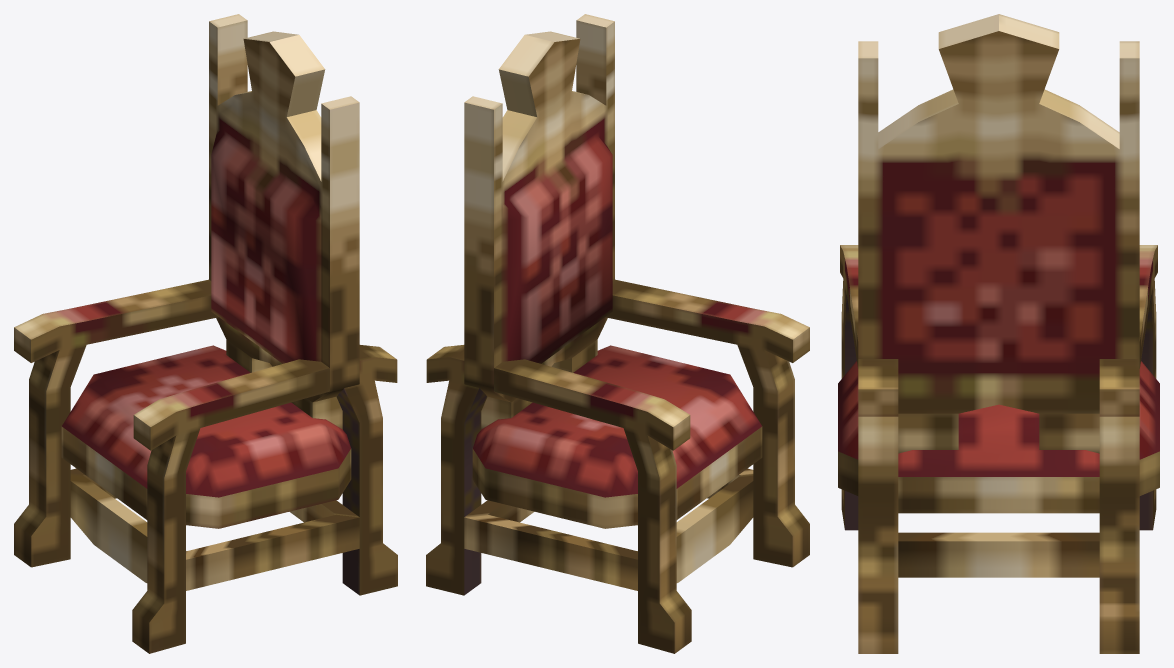
Rendered from ObjMD_Chair_G.FBX.
The picture shows the model from 3 angles, left to right: view 1: azimuth 30°, elevation 25°; view 2: azimuth 150°, elevation 25°; view 3: azimuth 270°, elevation 25°; orthographic projection. The views are drawn at different scales.
Parts seen in each view (by area): view 1: ObjMD_Chair_G; view 2: ObjMD_Chair_G; view 3: ObjMD_Chair_G.
Part boxes in pixels (x1,y1,x2,y2): ObjMD_Chair_G: [14, 14, 397, 653]; ObjMD_Chair_G: [426, 14, 809, 653]; ObjMD_Chair_G: [838, 14, 1159, 653].
Bounding box in the file's own units: 107 × 206 × 100.
